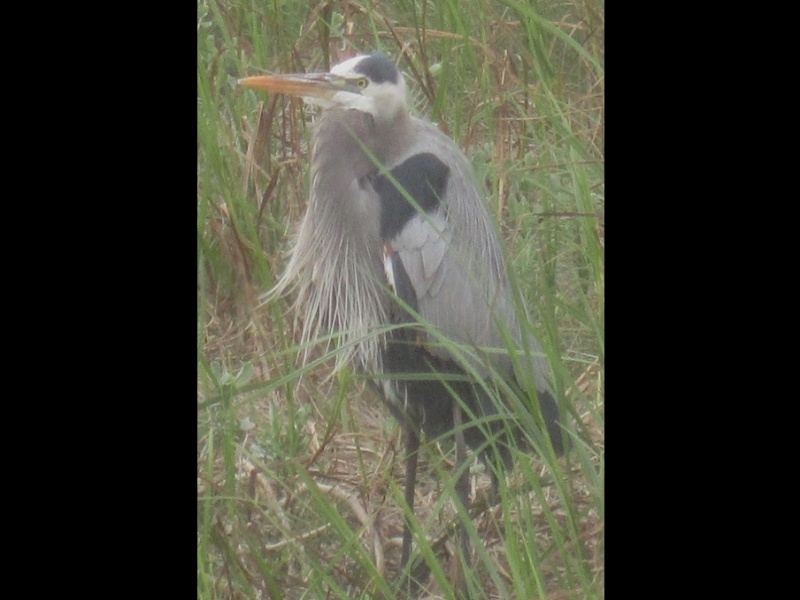heron: (238, 48, 574, 570)
